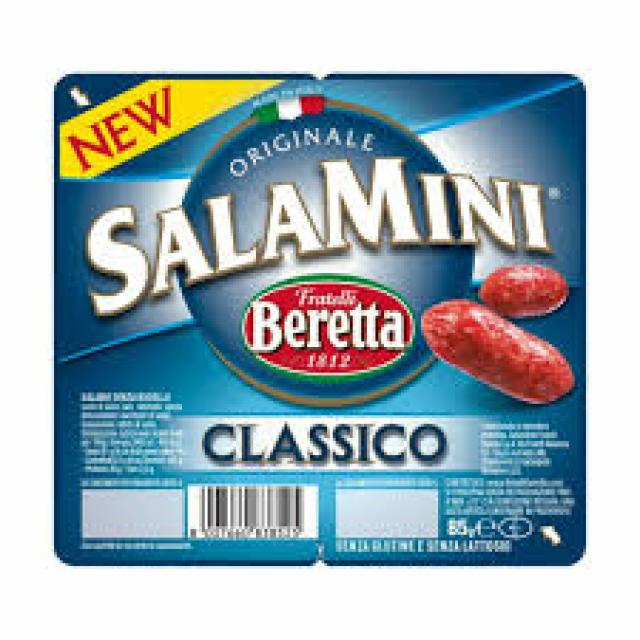Ham: (51, 71, 589, 572)
